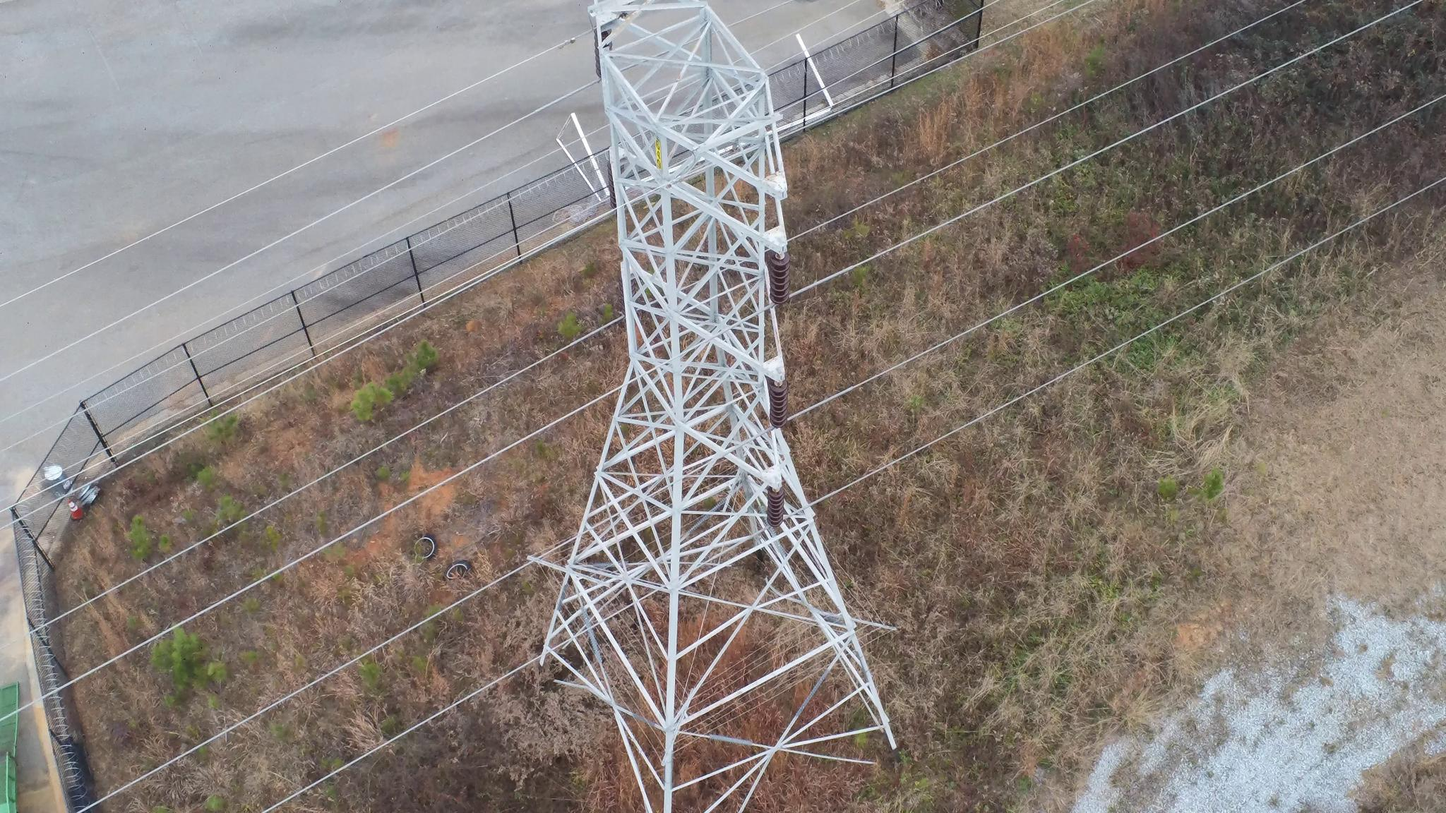tower: (536, 1, 905, 813)
